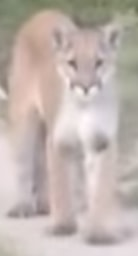Mountain Lion: (14, 6, 133, 248)
